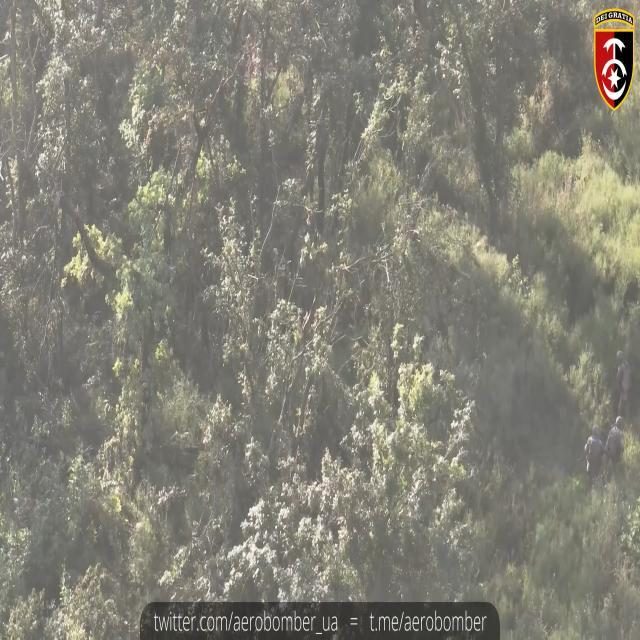MIL_Pax: (585, 424, 604, 484), (605, 416, 624, 471)
